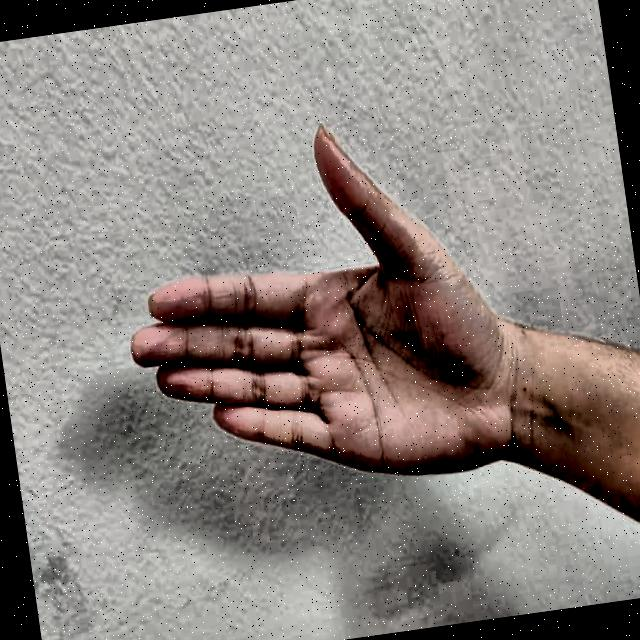Aa: (80, 75, 526, 552)
